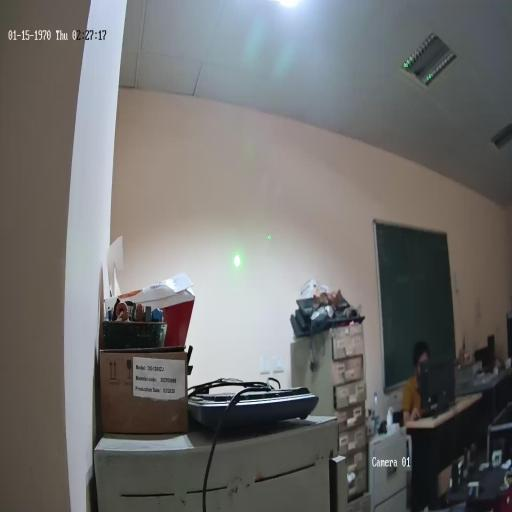laser: (232, 251, 241, 269)
